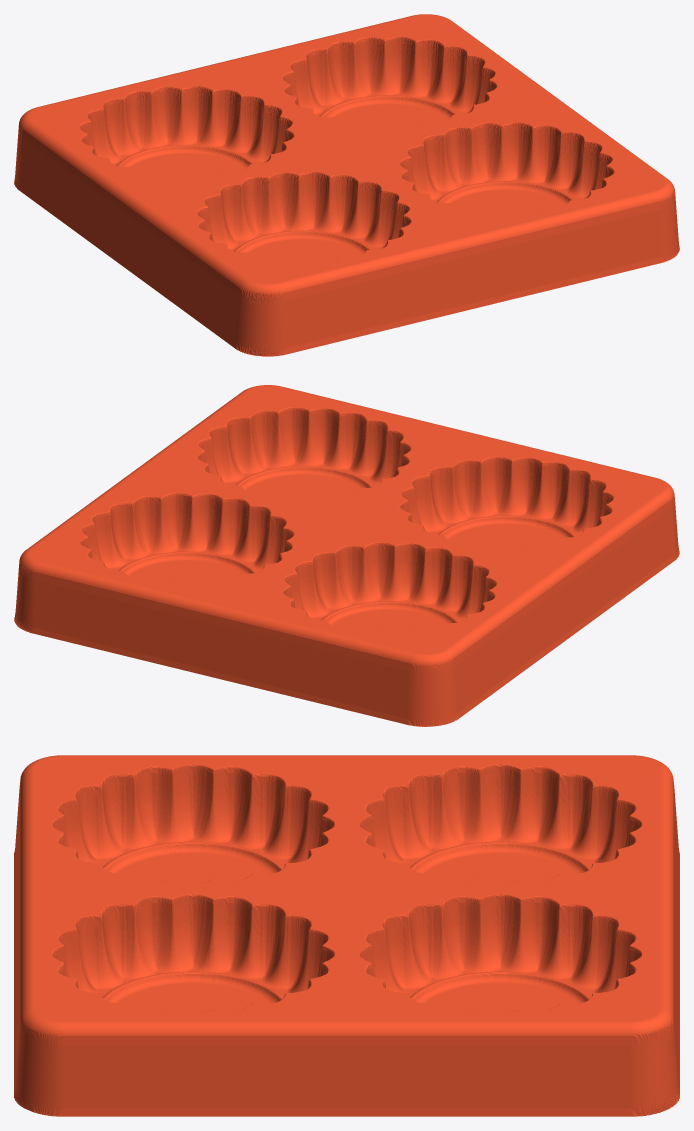
File: mold.glb
The picture shows the model from 3 angles, top to bottom: view 1: azimuth 30°, elevation 25°; view 2: azimuth 150°, elevation 25°; view 3: azimuth 270°, elevation 25°; orthographic projection. The views are drawn at different scales.
Visible parts, largest first — view 1: geometry_0; view 2: geometry_0; view 3: geometry_0.
Part boxes in pixels (left/top/right/bottom): geometry_0: left=14, top=14, right=679, bottom=356; geometry_0: left=14, top=385, right=679, bottom=726; geometry_0: left=14, top=755, right=679, bottom=1116.
Bounding box in the file's own units: 0.1211 × 0.0175 × 0.1211.
